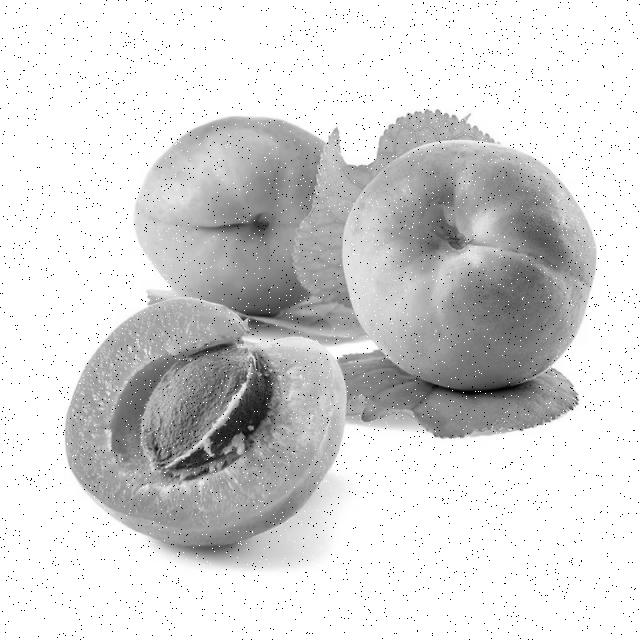cekirdek: (147, 347, 266, 470)
kayisi: (95, 296, 338, 554), (364, 145, 600, 387), (152, 127, 334, 305)
yaprak: (299, 113, 505, 308), (343, 346, 580, 443)
